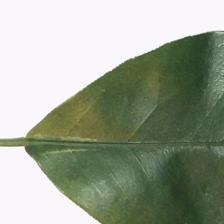healthy: (25, 29, 223, 224)
